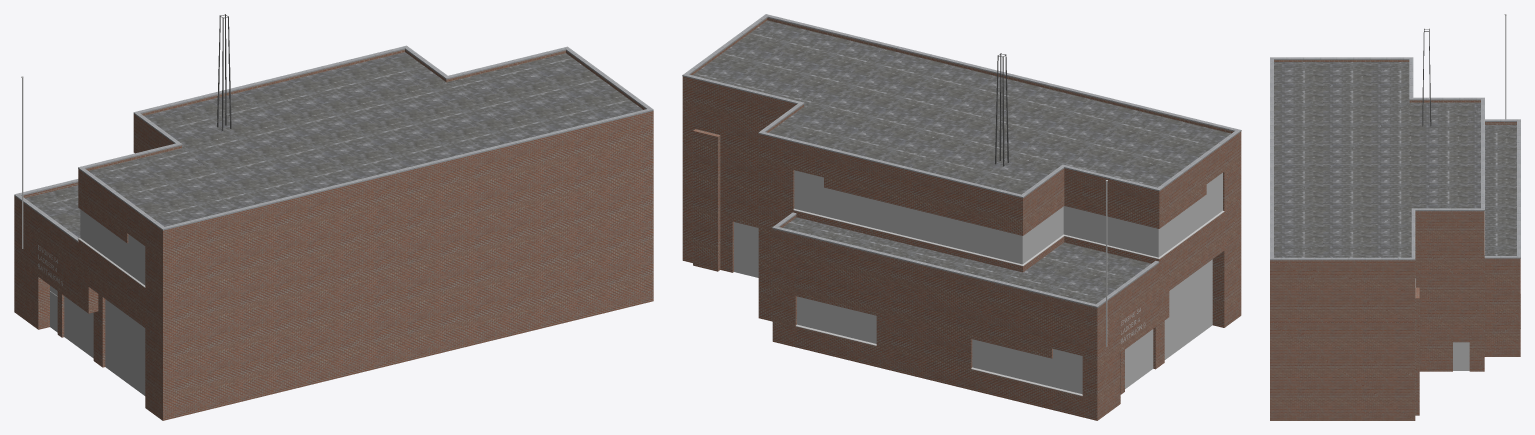
File: mcp_building_25_LOD_1.FBX
3 views of the same model, side by side, from view 1: azimuth 30°, elevation 25°; view 2: azimuth 150°, elevation 25°; view 3: azimuth 270°, elevation 25° (orthographic). The views are drawn at different scales.
Visible parts, largest first — view 1: mcp_building_25_walls, mcp_building_25, mcp_building_25_metal_01, mcp_building_25_props_04; view 2: mcp_building_25_walls, mcp_building_25, mcp_building_25_metal_01, mcp_building_25_props_04; view 3: mcp_building_25_walls, mcp_building_25_metal_01, mcp_building_25_door, mcp_building_25_props_04.
Boxes of the visible parts, box(x1,y1,x2,y2) form: mcp_building_25_walls: box(14, 49, 653, 420); mcp_building_25: box(38, 209, 145, 395); mcp_building_25_metal_01: box(14, 45, 653, 287); mcp_building_25_props_04: box(217, 14, 231, 130); mcp_building_25_walls: box(682, 18, 1241, 420); mcp_building_25: box(734, 170, 1222, 394); mcp_building_25_metal_01: box(682, 14, 1241, 396); mcp_building_25_props_04: box(995, 53, 1008, 166); mcp_building_25_walls: box(1270, 60, 1520, 420); mcp_building_25_metal_01: box(1270, 57, 1520, 328); mcp_building_25_door: box(1453, 342, 1469, 370); mcp_building_25_props_04: box(1422, 28, 1431, 126).
Bounding box in the file's own units: 4265 × 2477 × 2230.
